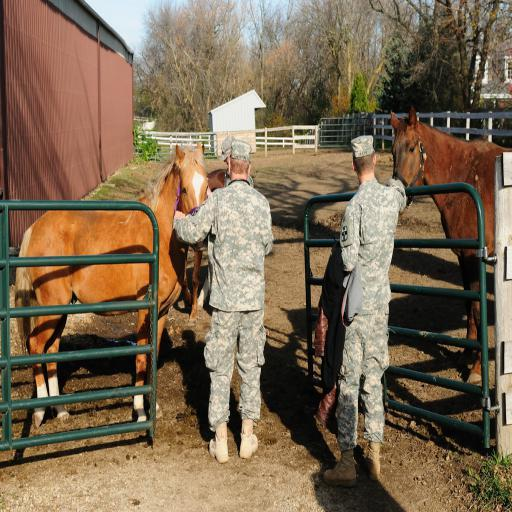Horse: (12, 137, 210, 427), (391, 102, 511, 386), (168, 167, 228, 322)
